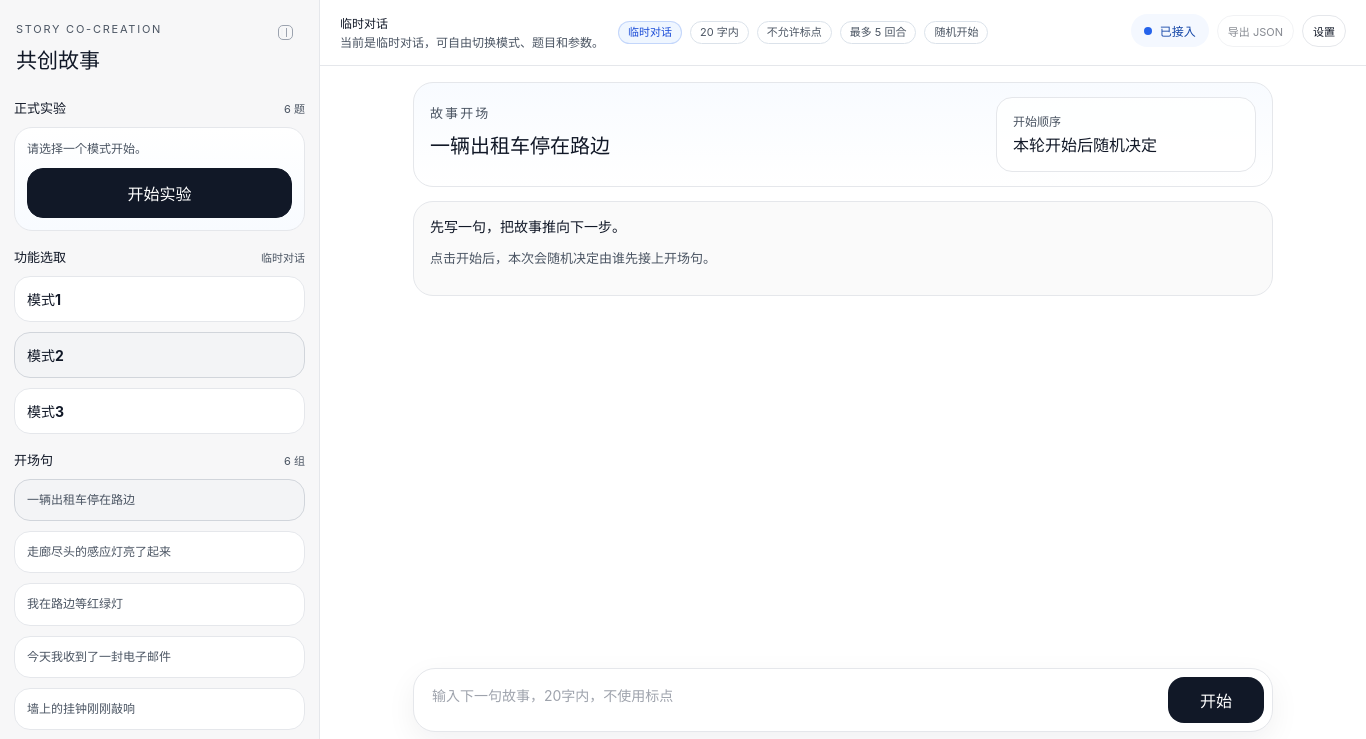
Test: App › allows sending a valid line and getting a mock reply
Expected: the text "已接入" is shown, x1=1131 y1=14 x2=1209 y2=47
Step 1. Click the button "开始" → (1216, 700), box x1=1168 y1=677 x2=1264 y2=723
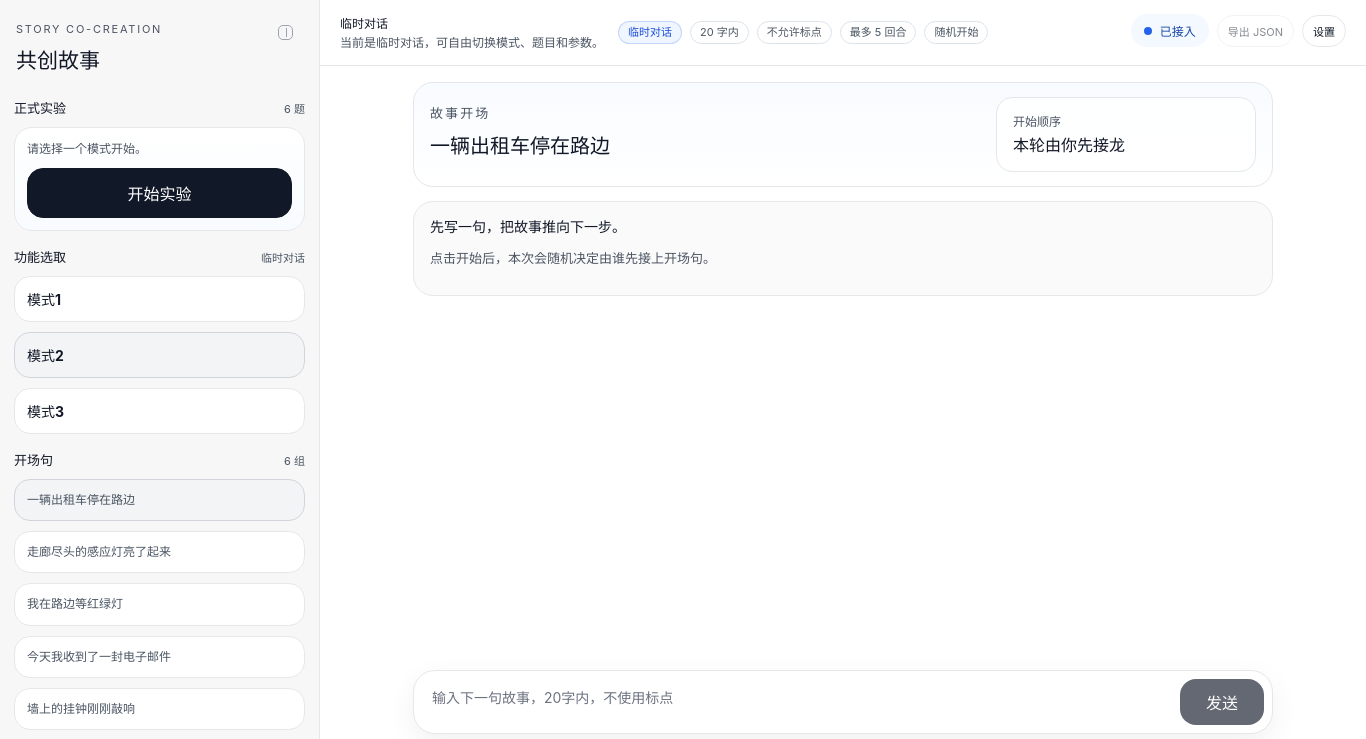
Step 2. Type "他翻到空白页的尽头" into the text box with placeholder "输入下一句故事，20字内，不使用标点" → (795, 702), box x1=422 y1=679 x2=1168 y2=725
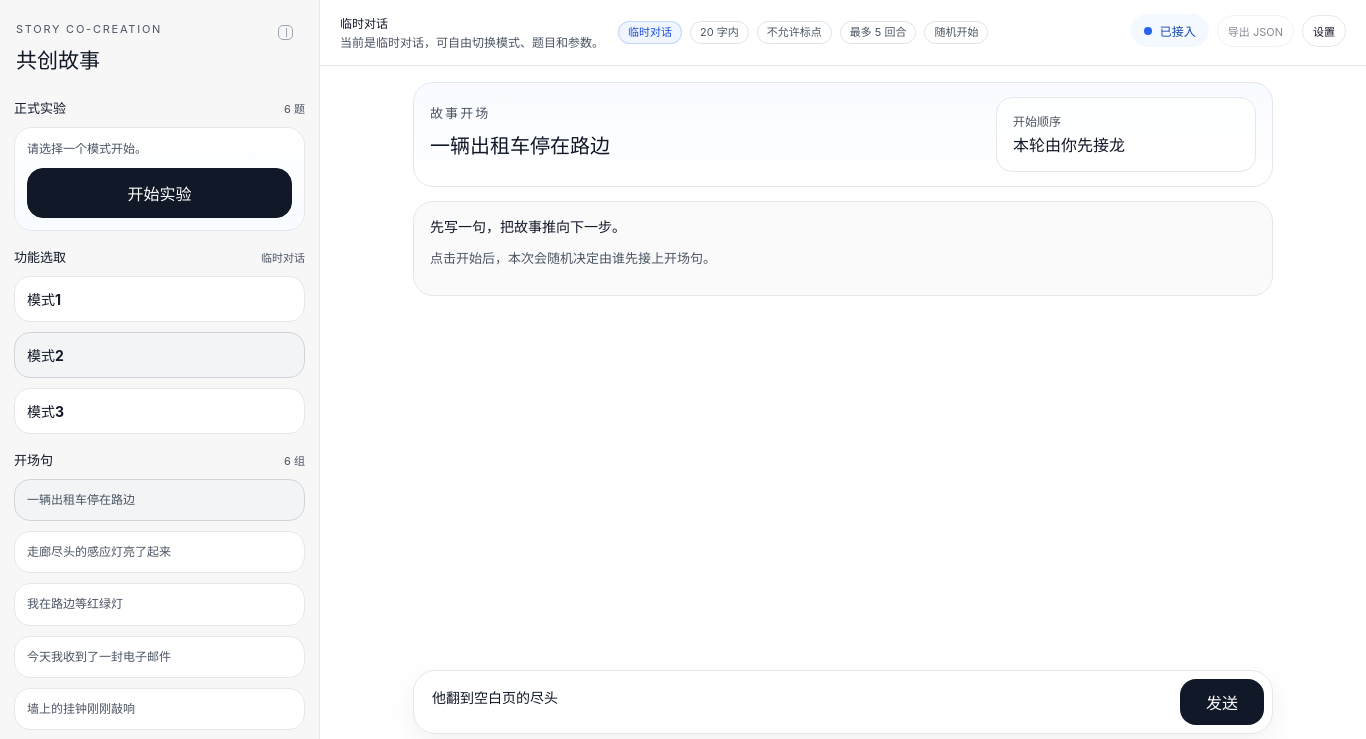
Step 3. Click the button "发送" → (1222, 702), box x1=1180 y1=679 x2=1264 y2=725
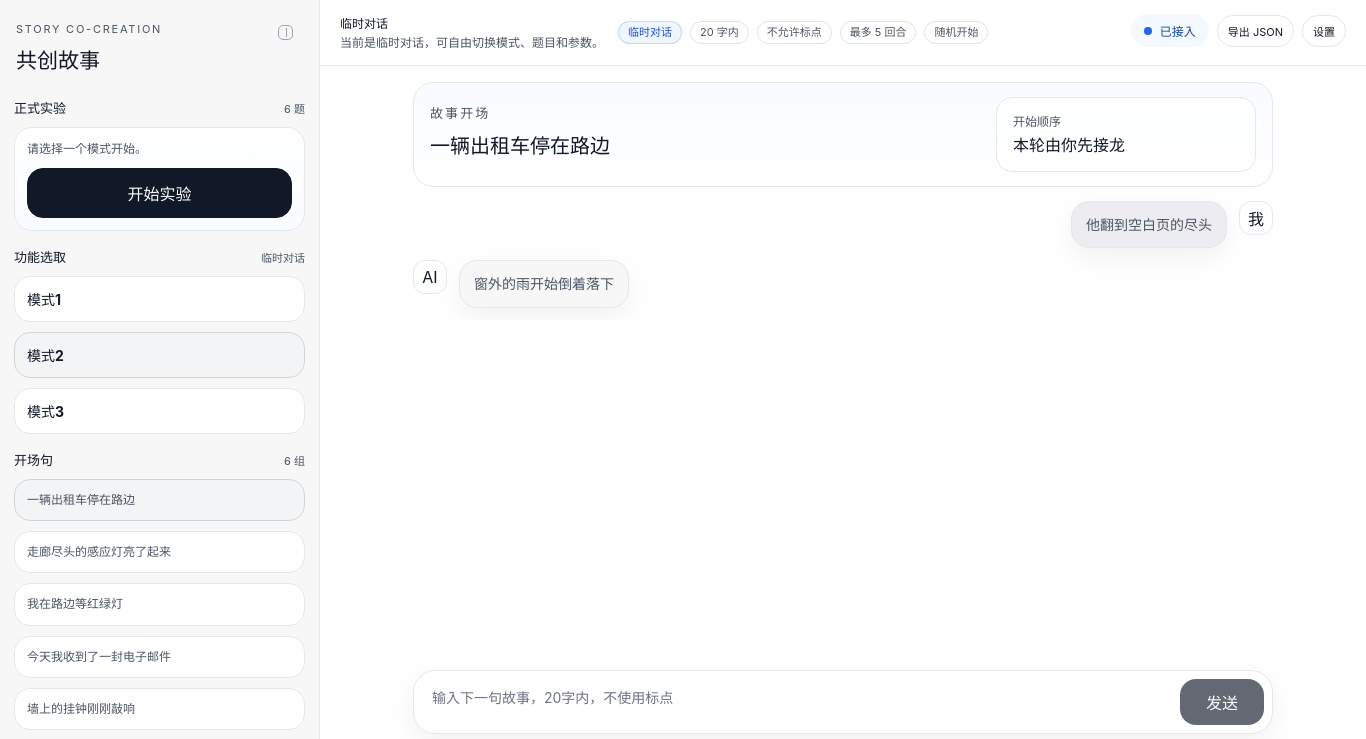
Now the text "他翻到空白页的尽头" is shown, box x1=1086 y1=214 x2=1212 y2=236
Now the text "窗外的雨开始倒着落下" is shown, box x1=474 y1=274 x2=614 y2=295
